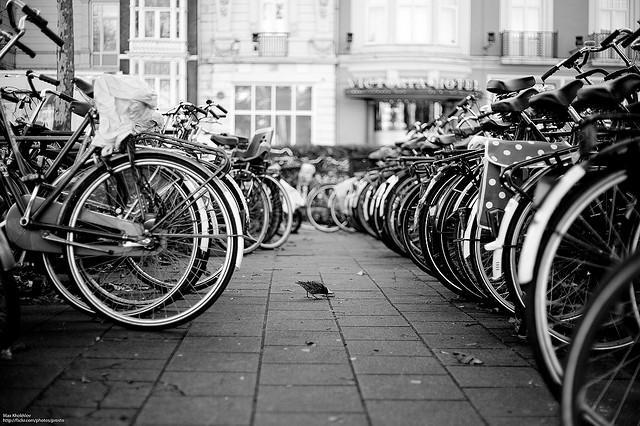bicycle: (4, 70, 242, 330), (519, 21, 639, 402), (464, 80, 584, 318), (445, 139, 575, 319), (161, 100, 273, 252), (496, 146, 586, 326), (388, 114, 499, 250), (559, 255, 640, 426), (374, 132, 460, 255), (358, 136, 427, 242), (418, 168, 472, 299), (290, 148, 336, 229), (226, 170, 249, 260)
